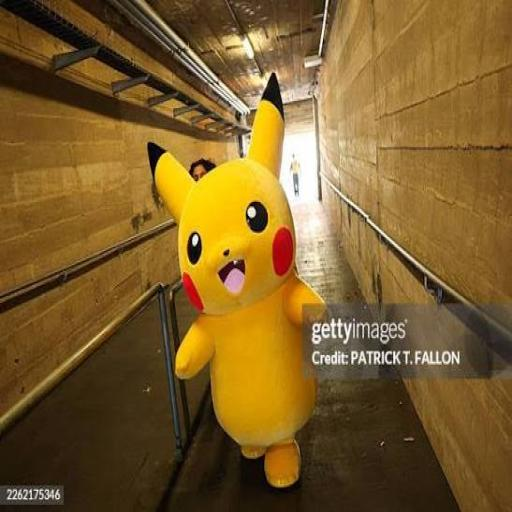Pikachu: (148, 72, 326, 488)
